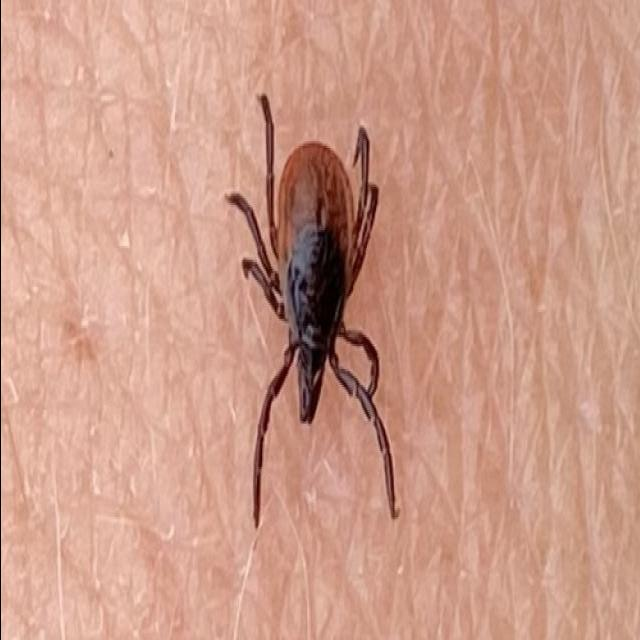Ixodes Ricinus-F: (224, 93, 398, 528)
